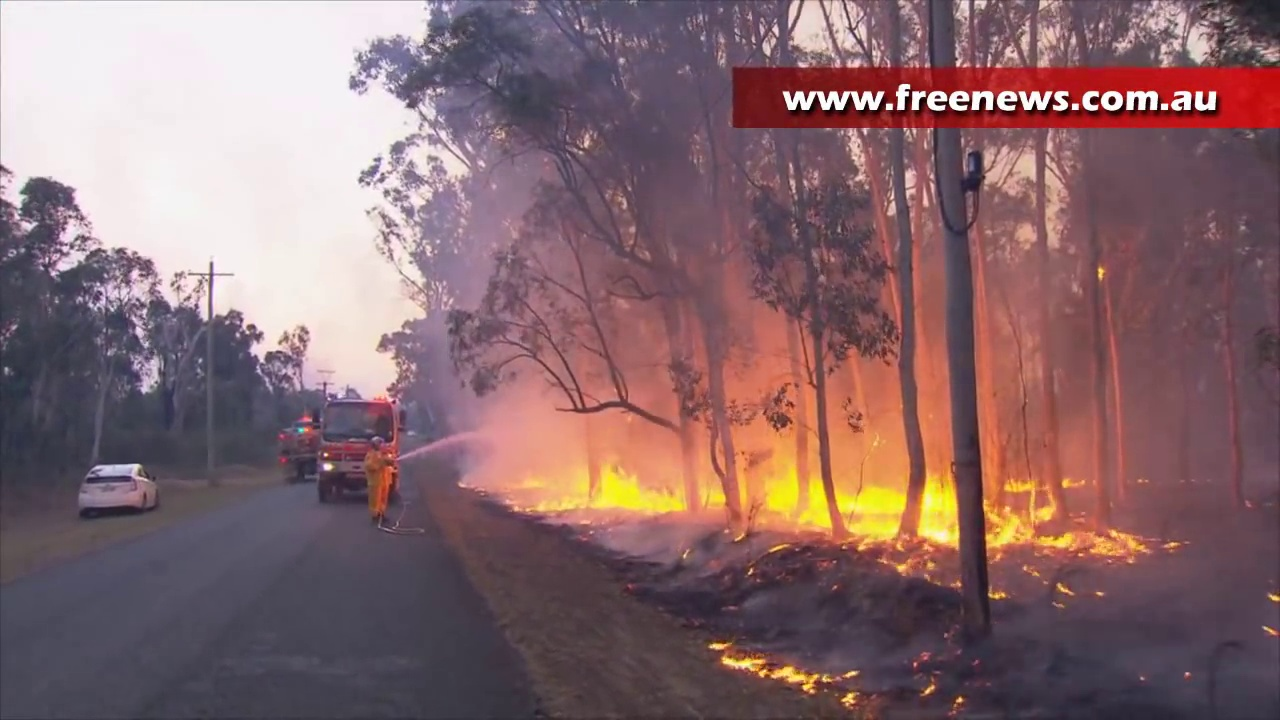fire: (857, 488, 959, 547), (1058, 523, 1144, 557), (729, 648, 807, 685), (599, 467, 657, 514), (986, 506, 1042, 546), (766, 478, 796, 521)
